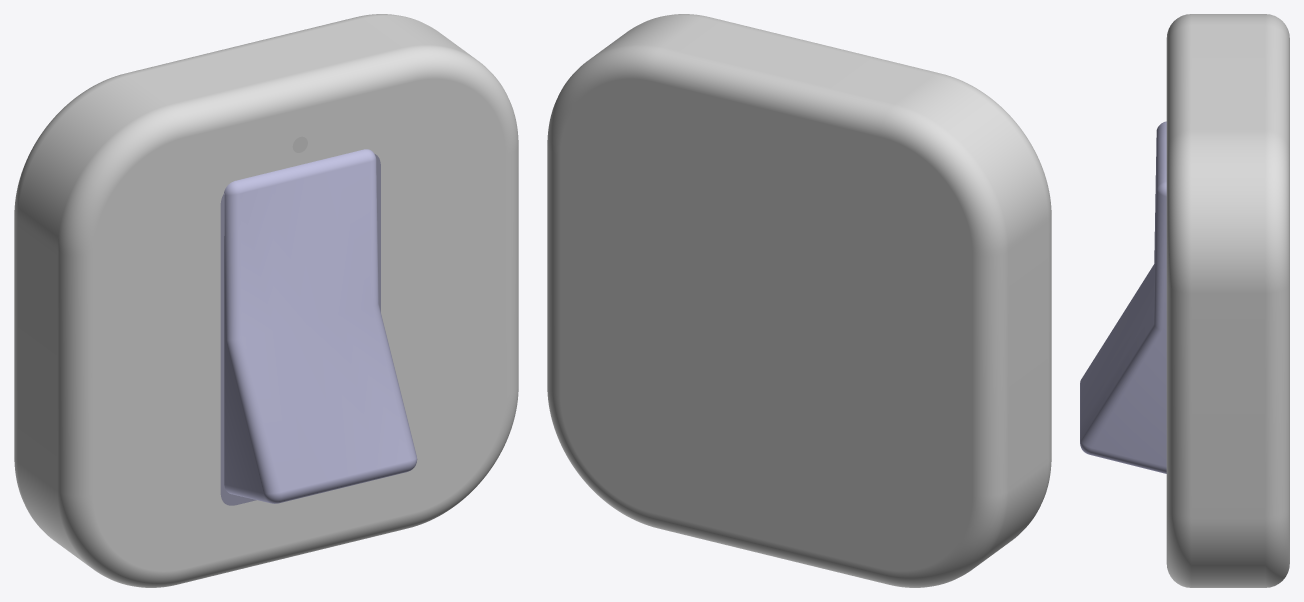
The model's file is switch-off1.glb.
3 views of the same model, side by side, from view 1: azimuth 30°, elevation 25°; view 2: azimuth 150°, elevation 25°; view 3: azimuth 270°, elevation 25° (orthographic). The views are drawn at different scales.
Visible parts, largest first — view 1: Rectangle (×2), Cube; view 2: Rectangle; view 3: Rectangle, Cube.
Boxes of the visible parts, x1,y1,x2,y2 form: Rectangle (×2): (14,14,518,587); Cube: (224,149,417,503); Rectangle: (547,14,1051,587); Rectangle: (1166,14,1289,587); Cube: (1080,121,1166,473).
Bounding box in the file's own units: 0.5299 × 0.5299 × 0.2256.
